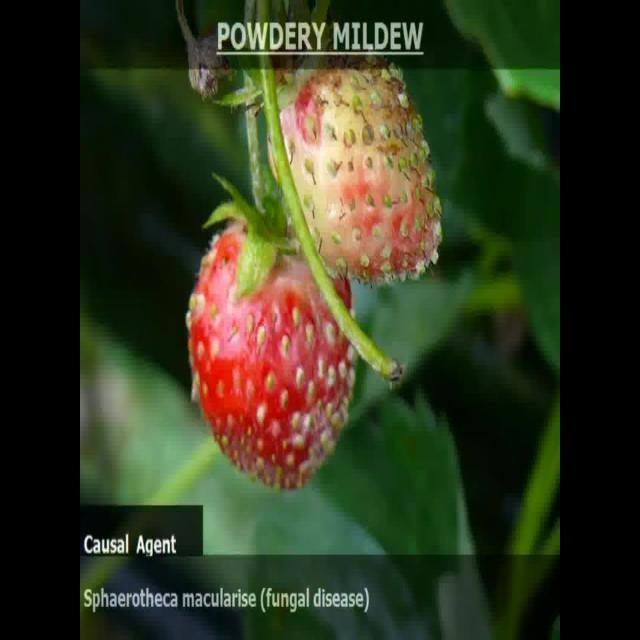Oído: (184, 202, 354, 506), (282, 55, 453, 292)
